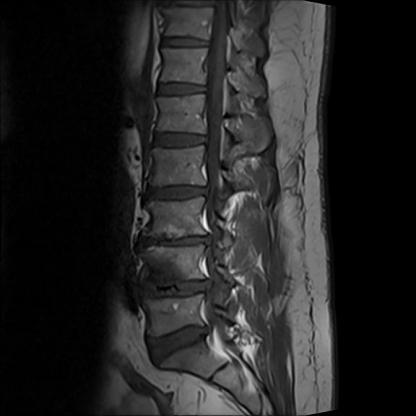Disc Bulgerotation: (137, 313, 220, 362), (132, 221, 222, 263)
